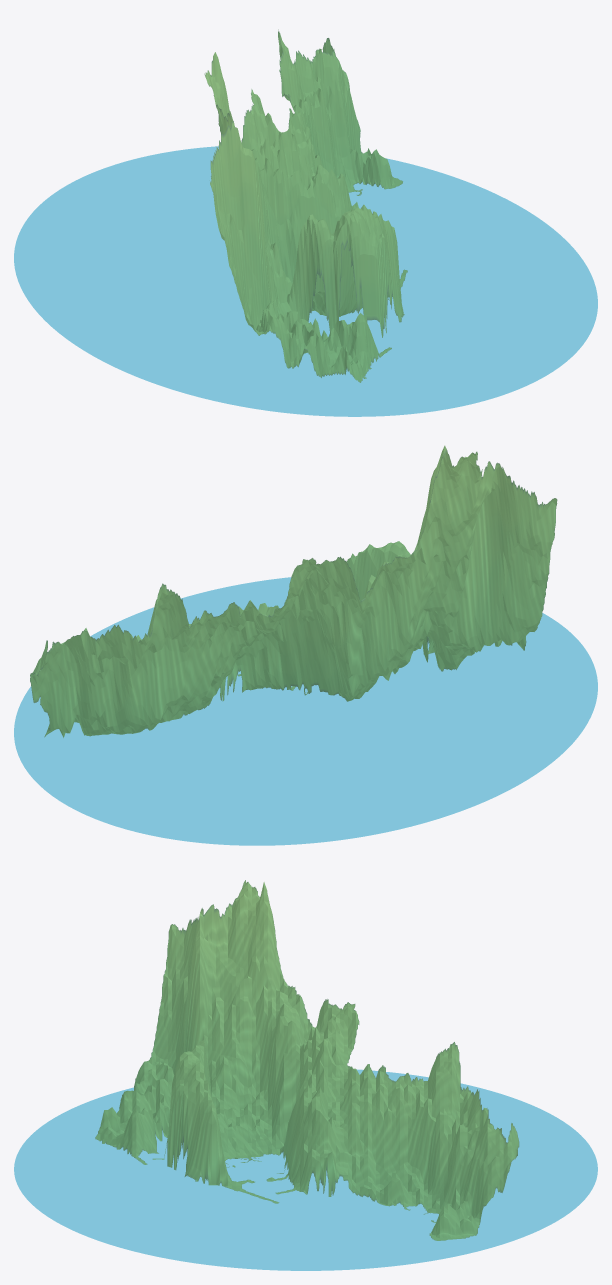
Rendered from MCO-terrain.glb.
The picture shows the model from 3 angles, top to bottom: view 1: azimuth 30°, elevation 25°; view 2: azimuth 150°, elevation 25°; view 3: azimuth 270°, elevation 25°; orthographic projection. The views are drawn at different scales.
Visible parts, largest first — view 1: Relevo com hidrografia; view 2: Relevo com hidrografia; view 3: Relevo com hidrografia.
Boxes of the visible parts, x1=… form: Relevo com hidrografia: x1=14, y1=29, x2=597, y2=416; Relevo com hidrografia: x1=14, y1=445, x2=597, y2=845; Relevo com hidrografia: x1=14, y1=880, x2=597, y2=1270.
Bounding box in the file's own units: 1.82 × 1 × 2.21.
Materials: 2 (1 with a texture image).
